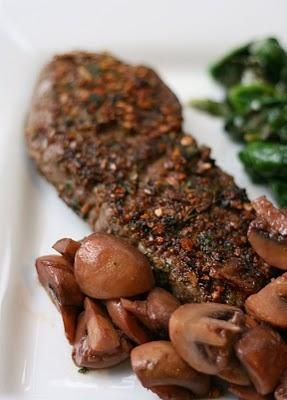background: (11, 22, 128, 249)
